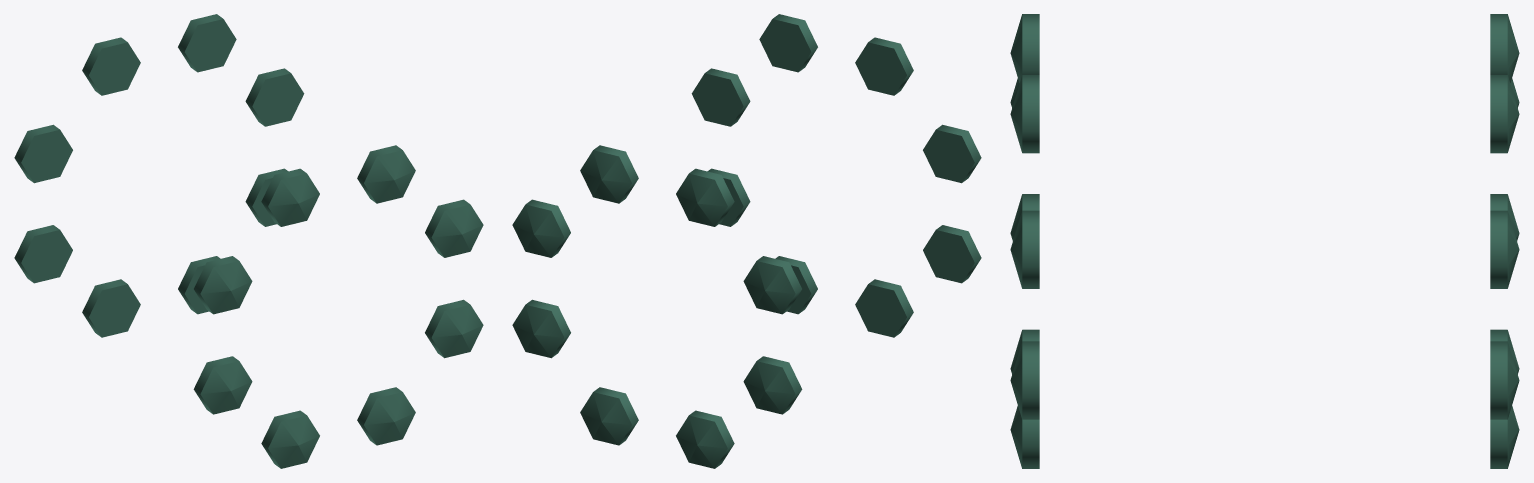
Rendered from h5_dampers.obj.
The picture shows the model from 3 angles, left to right: view 1: azimuth 30°, elevation 25°; view 2: azimuth 150°, elevation 25°; view 3: azimuth 270°, elevation 25°; orthographic projection. The views are drawn at different scales.
Parts seen in each view (by area): view 1: h5_dampers; view 2: h5_dampers; view 3: h5_dampers.
Part boxes in pixels (x1,y1,x2,y2): h5_dampers: [14, 14, 483, 468]; h5_dampers: [512, 14, 981, 468]; h5_dampers: [1010, 14, 1519, 468].
Size of the model in its own units: 2.02 by 1.97 by 2.41.
